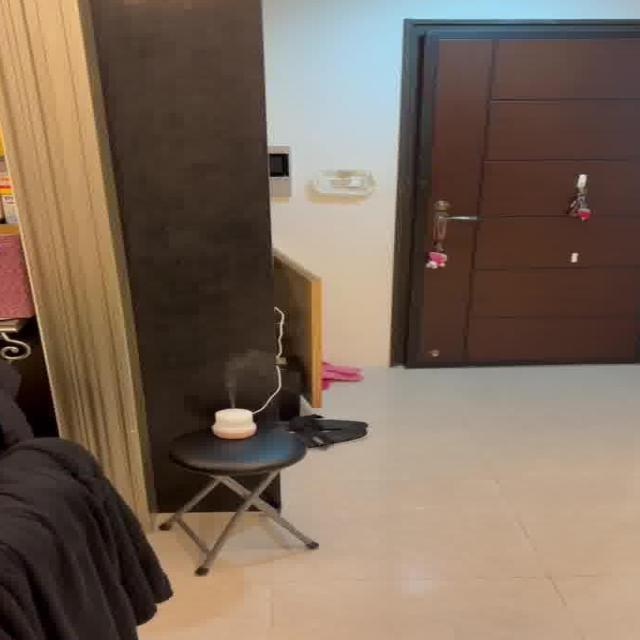fire: (220, 349, 270, 394)
